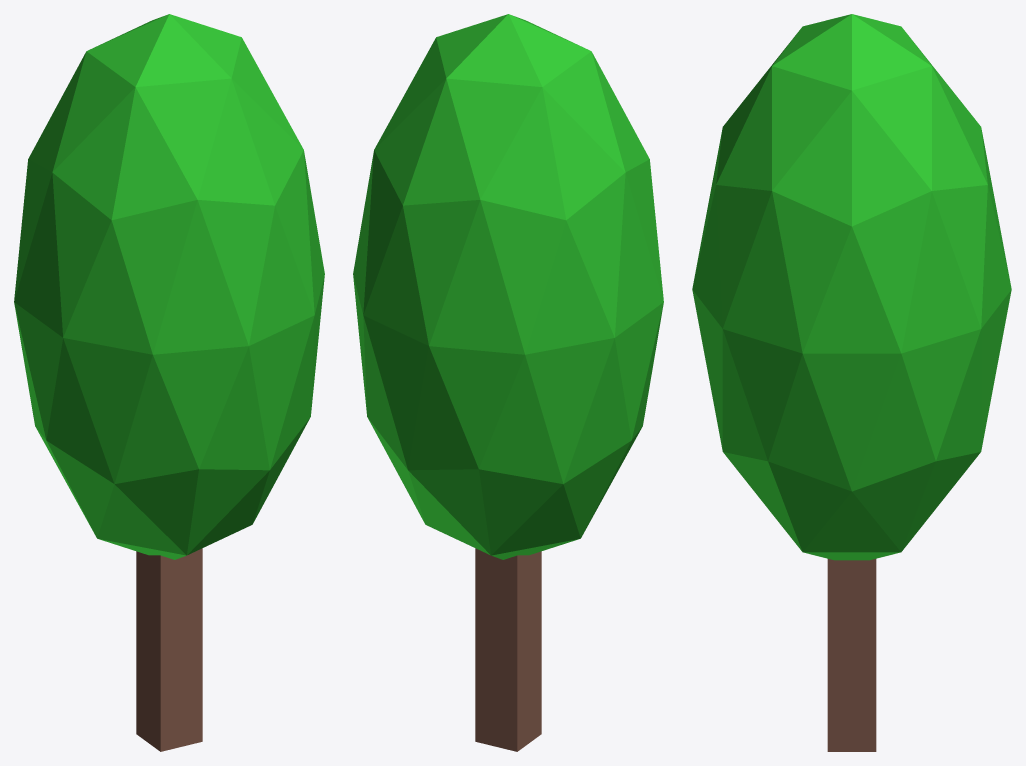
Rendered from Tree01.fbx.
3 views of the same model, side by side, from view 1: azimuth 30°, elevation 25°; view 2: azimuth 150°, elevation 25°; view 3: azimuth 270°, elevation 25° (orthographic).
Parts seen in each view (by area): view 1: 棱角球.089; view 2: 棱角球.089; view 3: 棱角球.089.
Part boxes in pixels (<box>): 棱角球.089: <box>14,14,324,751</box>; 棱角球.089: <box>353,14,663,751</box>; 棱角球.089: <box>692,14,1011,751</box>.
Bounding box in the file's own units: 122 × 323 × 129.
